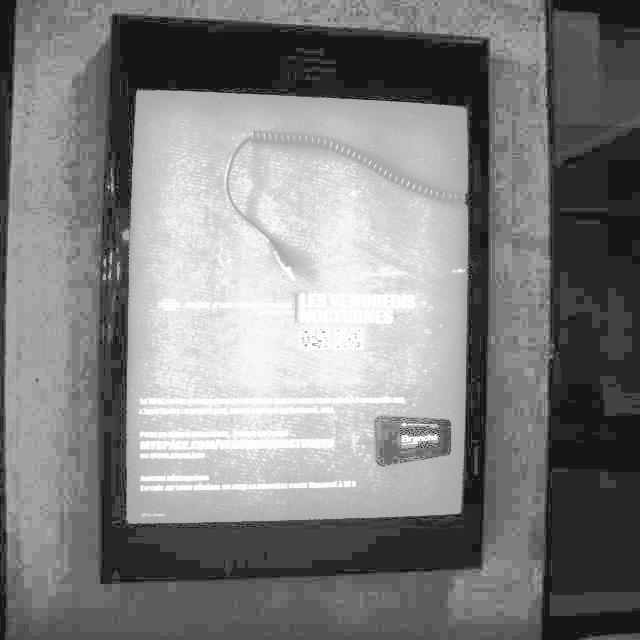qr_code: (302, 329, 328, 349), (336, 329, 362, 349)
